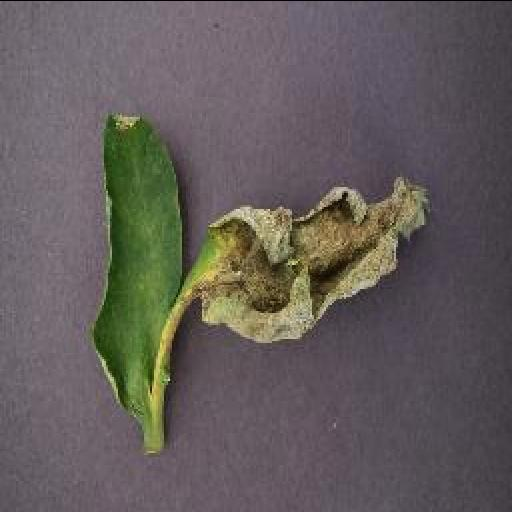disease_tomato: (192, 172, 434, 346)
